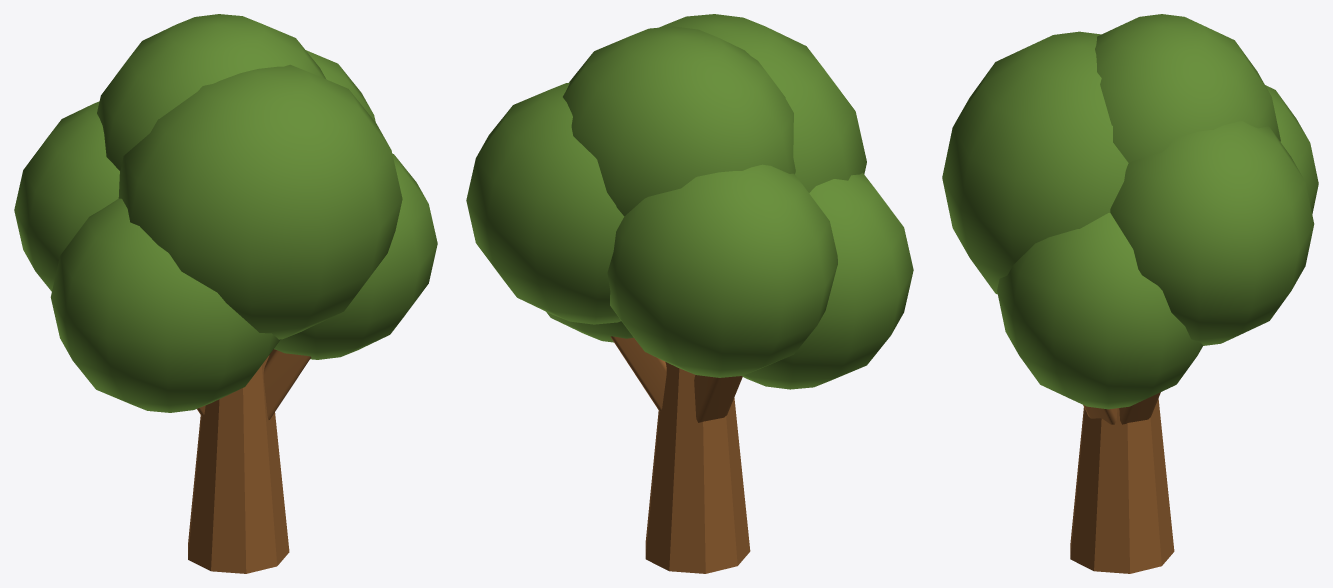
Rendered from broadleaf.glb.
The picture shows the model from 3 angles, left to right: view 1: azimuth 30°, elevation 25°; view 2: azimuth 150°, elevation 25°; view 3: azimuth 270°, elevation 25°; orthographic projection. The views are drawn at different scales.
Visible parts, largest first — view 1: rounded_crown_4, rounded_crown_0, broadleaf_flared_trunk, rounded_crown_5, rounded_crown_2, rounded_crown_1, thick_branch, rounded_crown_3; view 2: rounded_crown_2, rounded_crown_5, rounded_crown_3, rounded_crown_0, broadleaf_flared_trunk, rounded_crown_4, thick_branch.001, thick_branch.002, rounded_crown_1; view 3: rounded_crown_3, rounded_crown_4, rounded_crown_1, rounded_crown_5, broadleaf_flared_trunk, rounded_crown_2, thick_branch.001.
Part boxes in pixels (<box>): rounded_crown_4: <box>118,64,402,339</box>; rounded_crown_0: <box>50,198,280,412</box>; broadleaf_flared_trunk: <box>188,355,289,573</box>; rounded_crown_5: <box>97,14,326,170</box>; rounded_crown_2: <box>14,101,119,291</box>; rounded_crown_1: <box>274,153,437,359</box>; thick_branch: <box>263,349,311,419</box>; rounded_crown_3: <box>306,50,375,122</box>; rounded_crown_2: <box>607,164,837,377</box>; rounded_crown_5: <box>563,26,795,216</box>; rounded_crown_3: <box>466,82,624,324</box>; rounded_crown_0: <box>742,172,913,389</box>; broadleaf_flared_trunk: <box>645,362,750,573</box>; rounded_crown_4: <box>659,14,866,192</box>; thick_branch.001: <box>610,336,666,411</box>; thick_branch.002: <box>694,375,742,422</box>; rounded_crown_1: <box>546,312,633,342</box>; rounded_crown_3: <box>1110,121,1314,345</box>; rounded_crown_4: <box>942,31,1128,294</box>; rounded_crown_1: <box>997,213,1202,409</box>; rounded_crown_5: <box>1095,14,1280,162</box>; broadleaf_flared_trunk: <box>1070,398,1174,573</box>; rounded_crown_2: <box>1265,85,1318,213</box>; thick_branch.001: <box>1119,392,1160,424</box>.
Size of the model in its own units: 5.25 by 7.02 by 4.56.
